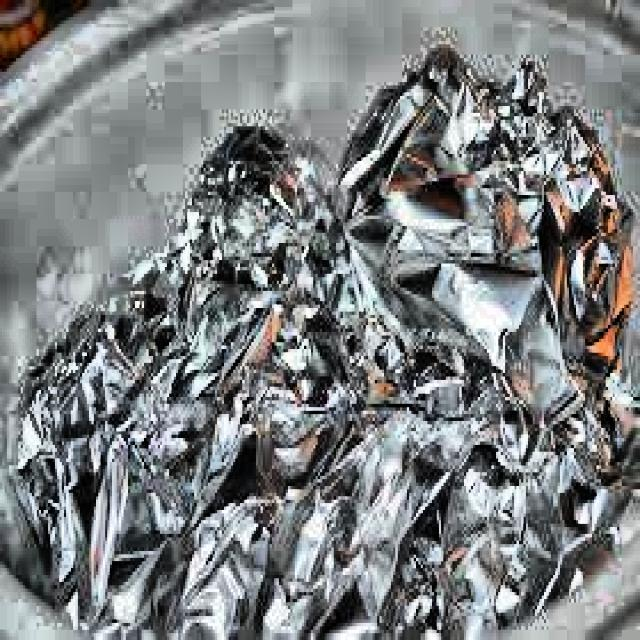Foil: (0, 41, 640, 640)
